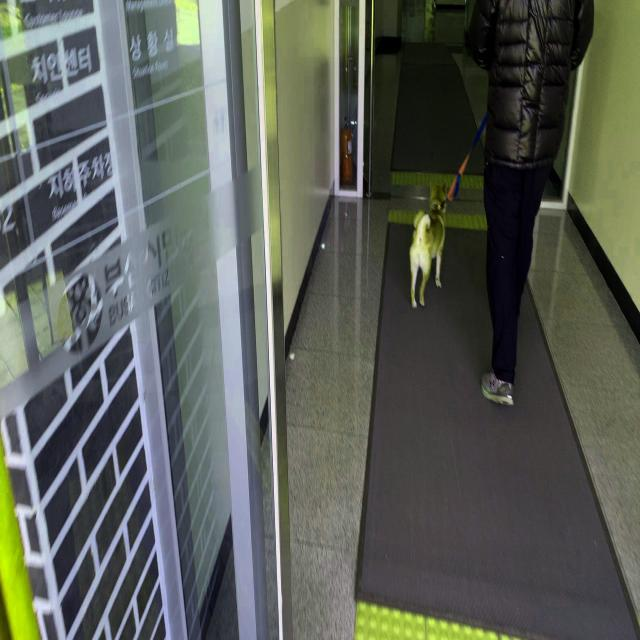Leashed_Dog: (409, 99, 511, 311)
